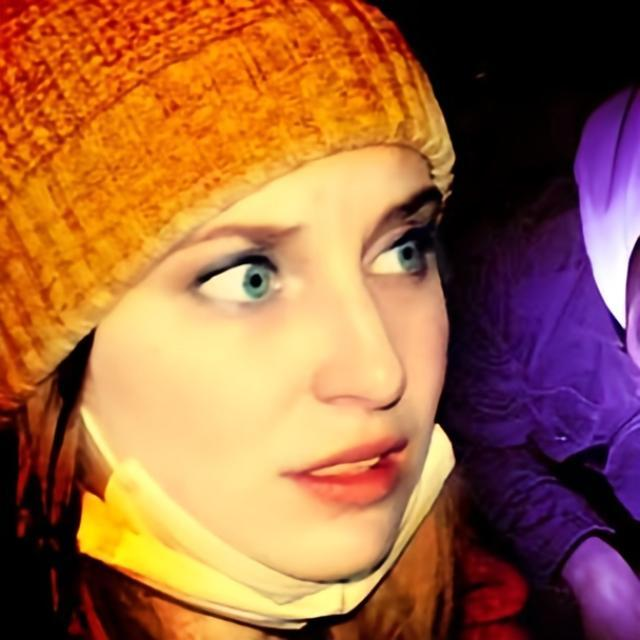fear: (81, 135, 456, 582)
